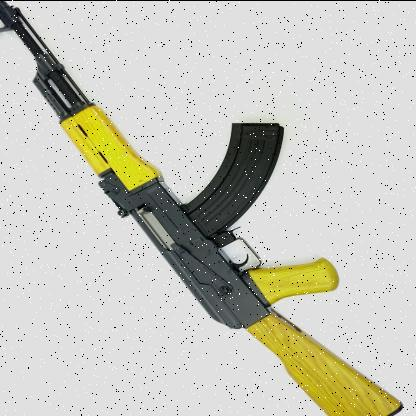rifle: (1, 4, 403, 416)
